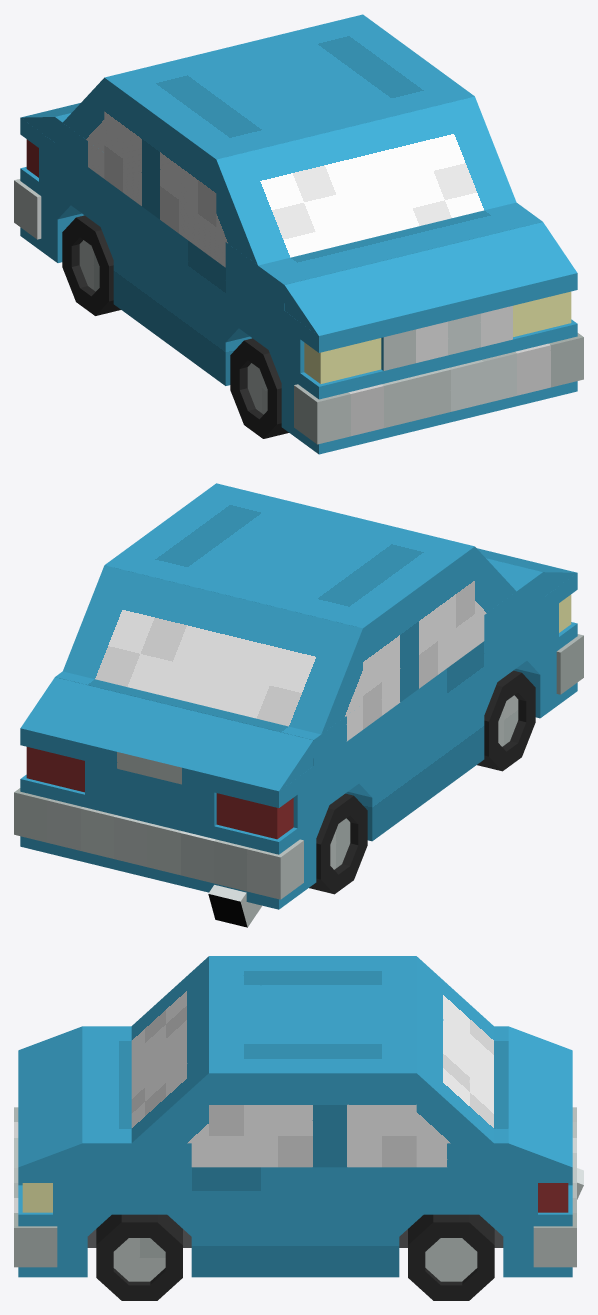
The model's file is littlecar.obj.
3 renders of one model, top to bottom at view 1: azimuth 30°, elevation 25°; view 2: azimuth 150°, elevation 25°; view 3: azimuth 270°, elevation 25°, orthographic. The views are drawn at different scales.
Visible parts, largest first — view 1: cube, headlights, wheelfrontright, wheelrearright; view 2: cube, taillights, wheelfrontright, wheelrearright; view 3: cube, wheelrearleft, wheelfrontleft, headlights, taillights.
Boxes of the visible parts, box(x1,y1,x2,y2) form: cube: box(14, 14, 583, 454); headlights: box(304, 291, 571, 383); wheelfrontright: box(230, 338, 288, 438); wheelrearright: box(62, 215, 120, 315); cube: box(14, 483, 583, 927); taillights: box(26, 747, 293, 839); wheelfrontright: box(477, 670, 535, 771); wheelrearright: box(309, 793, 367, 894); cube: box(14, 956, 583, 1277); wheelrearleft: box(408, 1214, 494, 1300); wheelfrontleft: box(96, 1214, 182, 1300); headlights: box(22, 1183, 52, 1212); taillights: box(538, 1183, 568, 1212).
Bounding box in the file's own units: 0.5156 × 0.4554 × 1.03.
